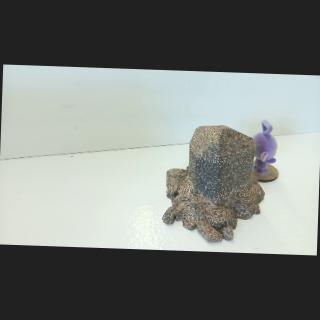teletubby: (252, 120, 277, 176)
